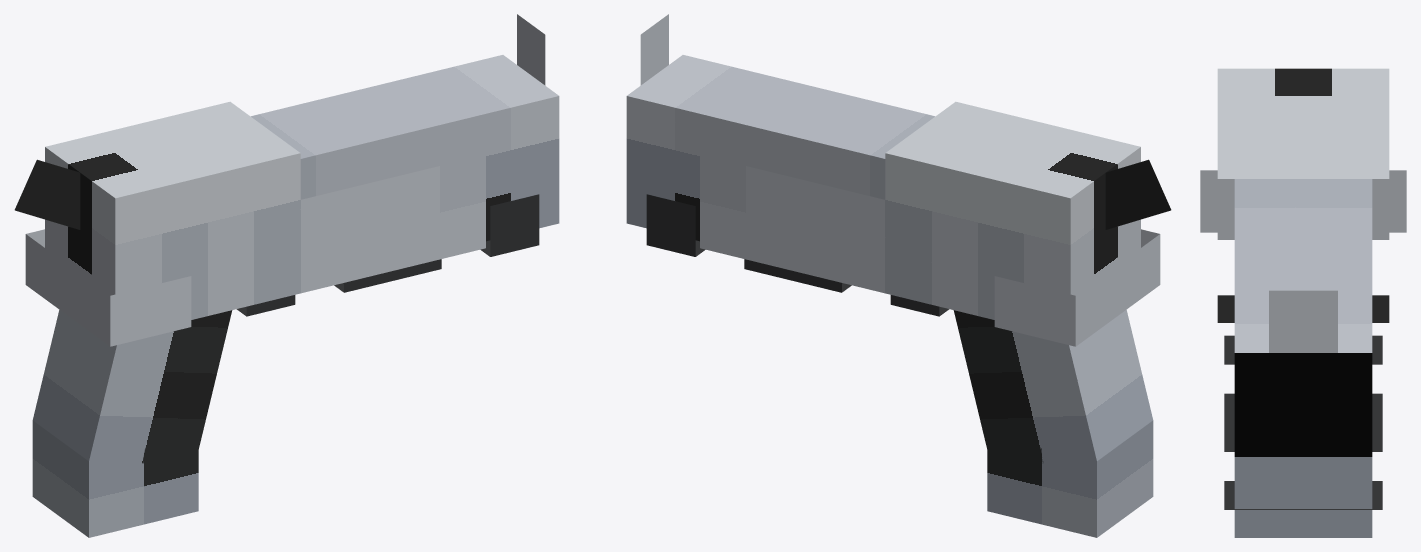
File: Deagle.glb
3 views of the same model, side by side, from view 1: azimuth 30°, elevation 25°; view 2: azimuth 150°, elevation 25°; view 3: azimuth 270°, elevation 25° (orthographic). The views are drawn at different scales.
Visible parts, largest first — view 1: cube; view 2: cube; view 3: cube.
Part boxes in pixels (left/top/right/bottom): cube: left=14, top=14, right=559, bottom=537; cube: left=626, top=14, right=1171, bottom=537; cube: left=1200, top=68, right=1406, bottom=537.
Size of the model in its own units: 10.85 by 7.41 by 3.
1 material, 1 textured.
